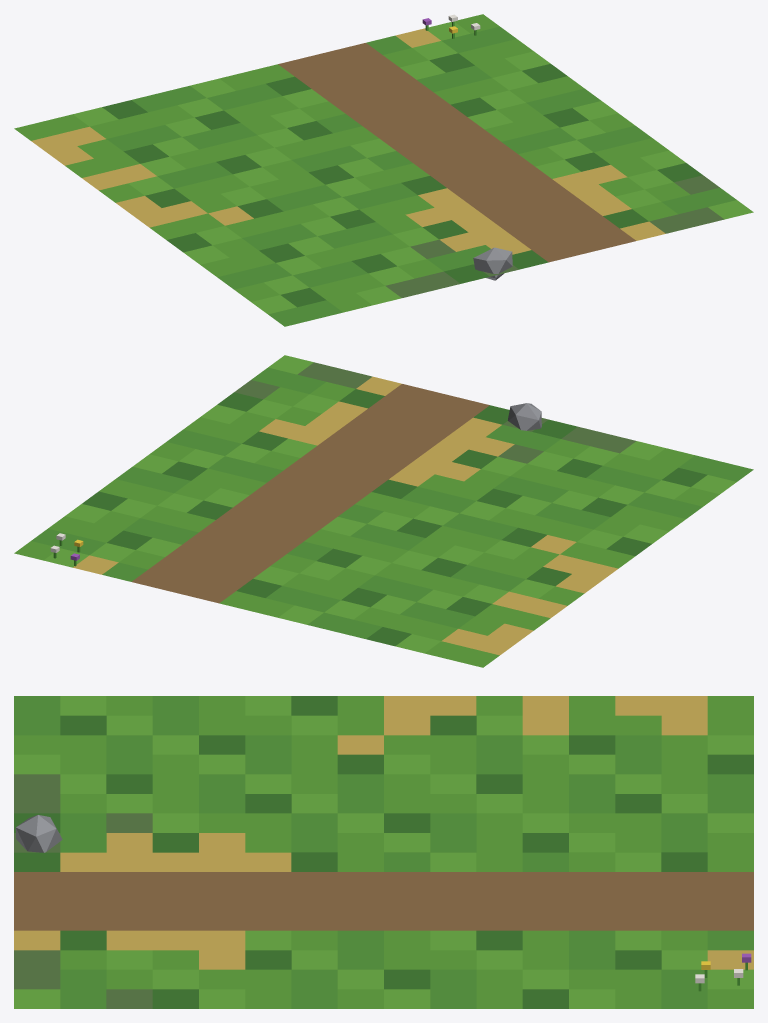
The model's file is chunk_10_13.glb.
3 views of the same model, one above another, from view 1: azimuth 30°, elevation 25°; view 2: azimuth 150°, elevation 25°; view 3: azimuth 270°, elevation 25° (orthographic). The views are drawn at different scales.
Visible parts, largest first — view 1: chunk_10_13; view 2: chunk_10_13; view 3: chunk_10_13.
Part boxes in pixels (x1,y1,x2,y2): chunk_10_13: (14, 14, 753, 326); chunk_10_13: (14, 355, 753, 667); chunk_10_13: (14, 696, 753, 1008).
Bounding box in the file's own units: 16 × 1.09 × 16.
